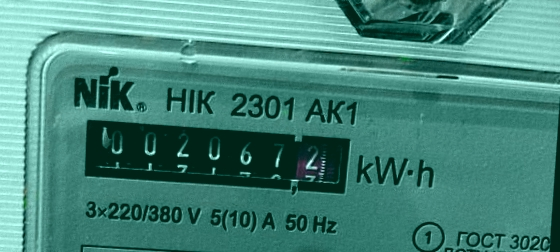0: (106, 127, 126, 157), (203, 132, 223, 161), (140, 128, 159, 158)
2: (302, 142, 322, 172), (173, 130, 192, 160)
6: (236, 137, 256, 167)
7: (269, 139, 287, 170)
screen: (68, 106, 365, 208)
